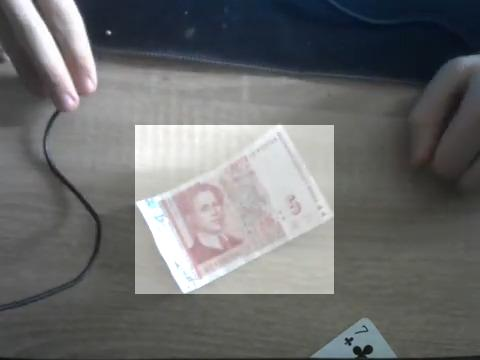5leva: (135, 125, 334, 294)
